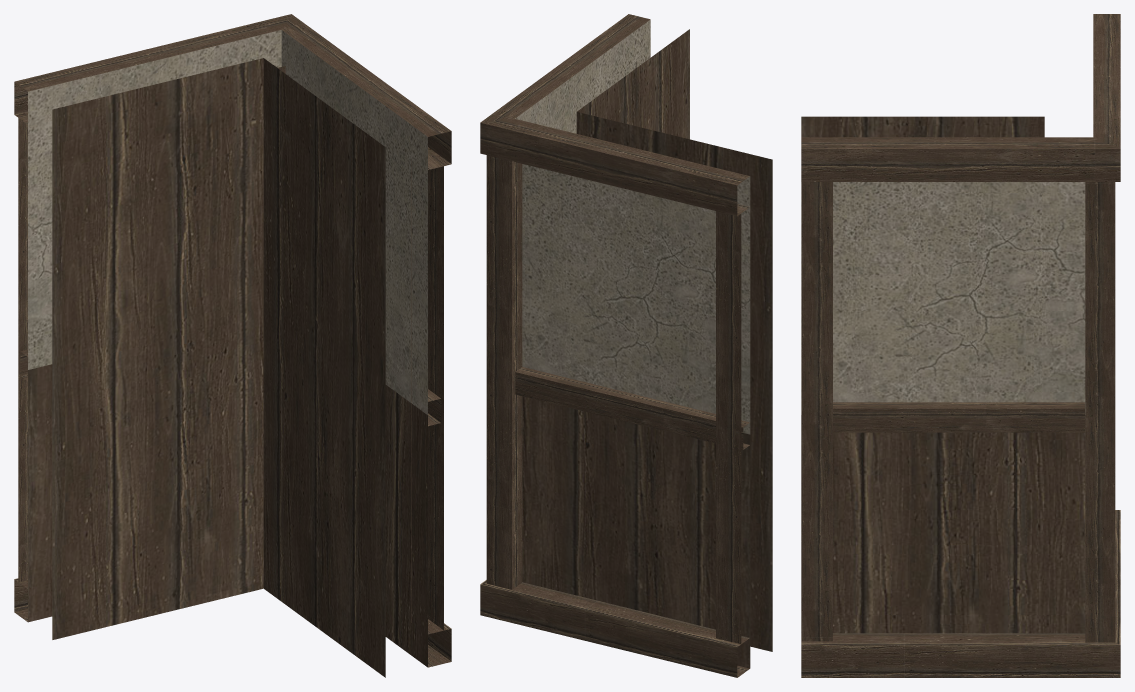
Rendered from ARC1010328.fbx.
3 views of the same model, side by side, from view 1: azimuth 30°, elevation 25°; view 2: azimuth 150°, elevation 25°; view 3: azimuth 270°, elevation 25° (orthographic). The views are drawn at different scales.
Parts seen in each view (by area): view 1: smARC1010328; view 2: smARC1010328; view 3: smARC1010328.
Boxes of the visible parts, left/top/right/bottom form: smARC1010328: left=14, top=14, right=451, bottom=677; smARC1010328: left=480, top=14, right=772, bottom=677; smARC1010328: left=801, top=14, right=1120, bottom=677.
Size of the model in its own units: 147 by 268 by 147.
1 material, 1 textured.
